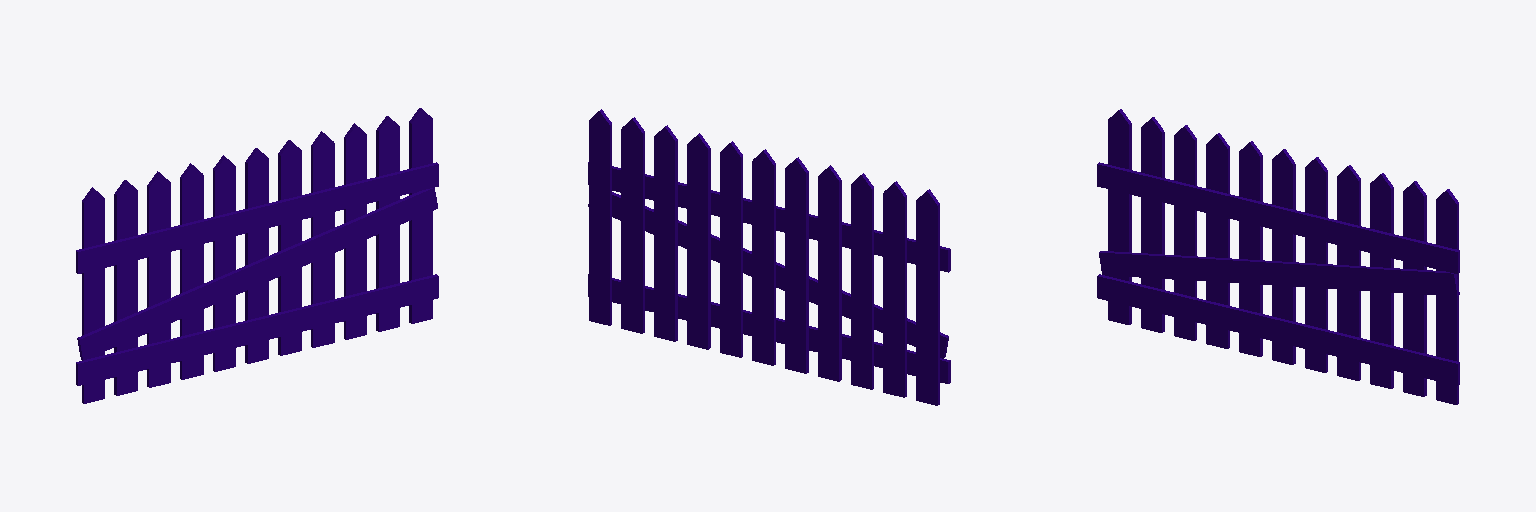
Rendered from fence.obj.
3 views of the same model, side by side, from view 1: azimuth 30°, elevation 25°; view 2: azimuth 150°, elevation 25°; view 3: azimuth 330°, elevation 25° (orthographic).
Parts seen in each view (by area): view 1: Object001, Object002; view 2: Object001, Object002; view 3: Object001, Object002.
Boxes of the visible parts, x1=… form: Object001: x1=82, y1=108, x2=432, y2=403; Object002: x1=76, y1=162, x2=438, y2=385; Object001: x1=589, y1=109, x2=939, y2=405; Object002: x1=588, y1=162, x2=950, y2=383; Object001: x1=1108, y1=109, x2=1458, y2=404; Object002: x1=1097, y1=162, x2=1459, y2=385.
Size of the model in its own units: 170 by 95.45 by 4.03.